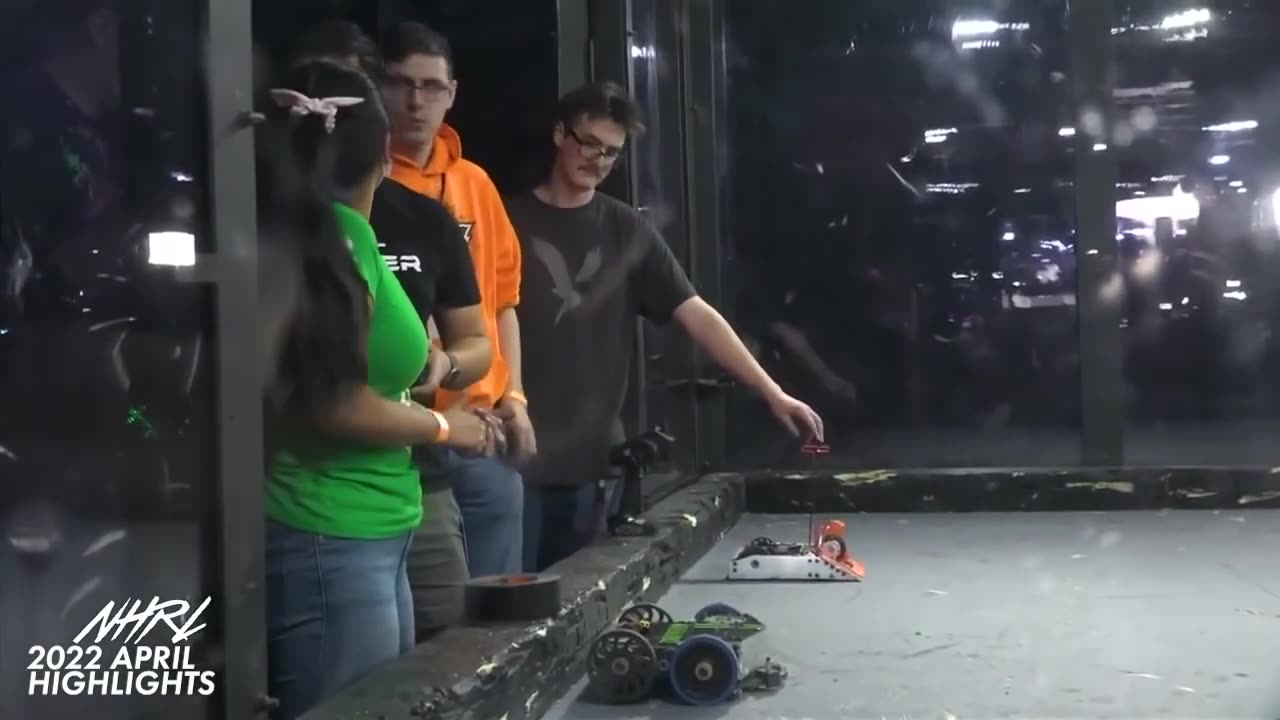combatbot: (590, 603, 786, 704), (727, 521, 861, 585)
